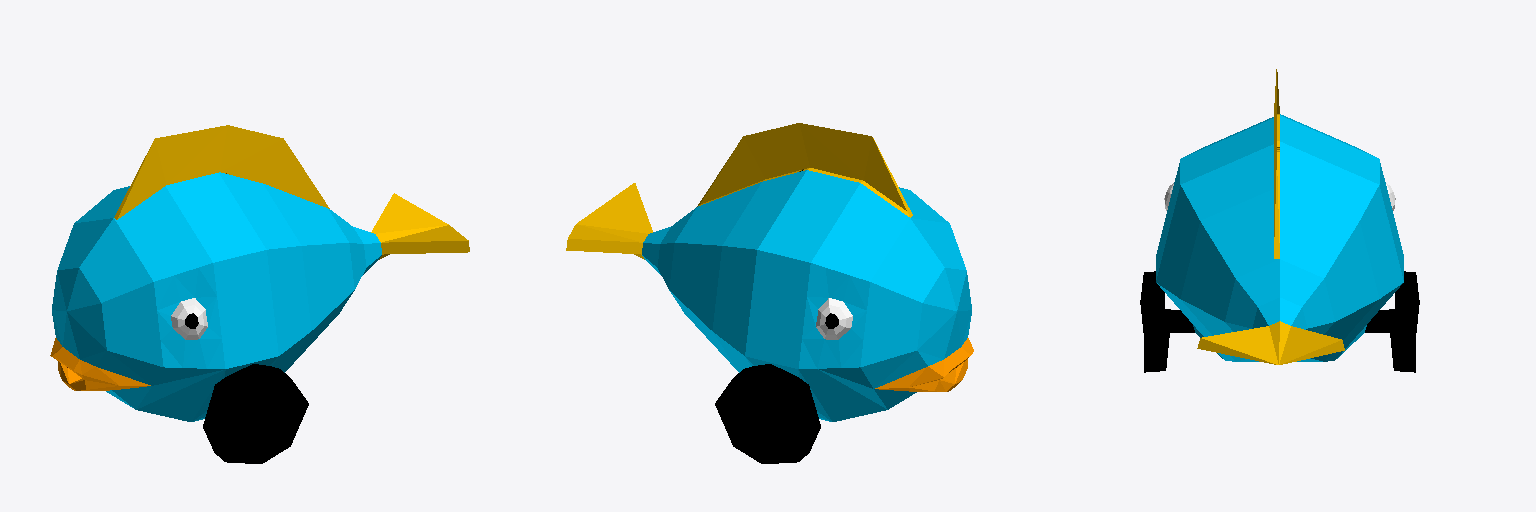
3 views of the same model, side by side, from view 1: azimuth 30°, elevation 25°; view 2: azimuth 150°, elevation 25°; view 3: azimuth 270°, elevation 25° (orthographic).
Parts seen in each view (by area): view 1: pSphere1; view 2: pSphere1; view 3: pSphere1.
Part boxes in pixels (bbox=[...]): pSphere1: bbox=[50, 125, 469, 463]; pSphere1: bbox=[566, 123, 973, 463]; pSphere1: bbox=[1140, 69, 1419, 372].
Size of the model in its own units: 3.41 by 2.43 by 2.14.
Materials: 1 (1 with a texture image).